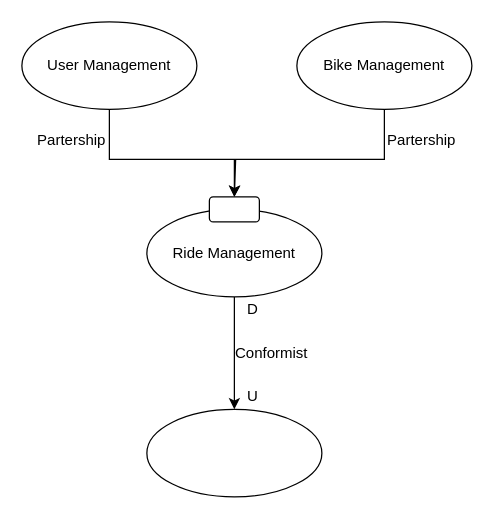
The diagram is 494 pixels wide and 519 high, and some of its shapes have lost their labels. Here are the shapes that lost their labels. From the top down, the centre of each, then its label:
At (233,209): "ACL".
At (234,452): "Map Management".
